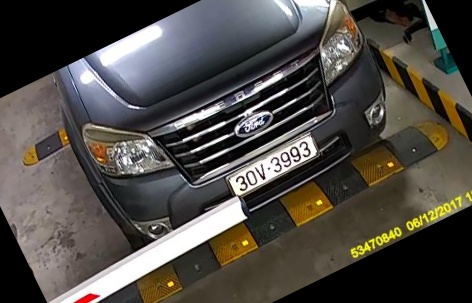plate: (226, 135, 329, 203)
